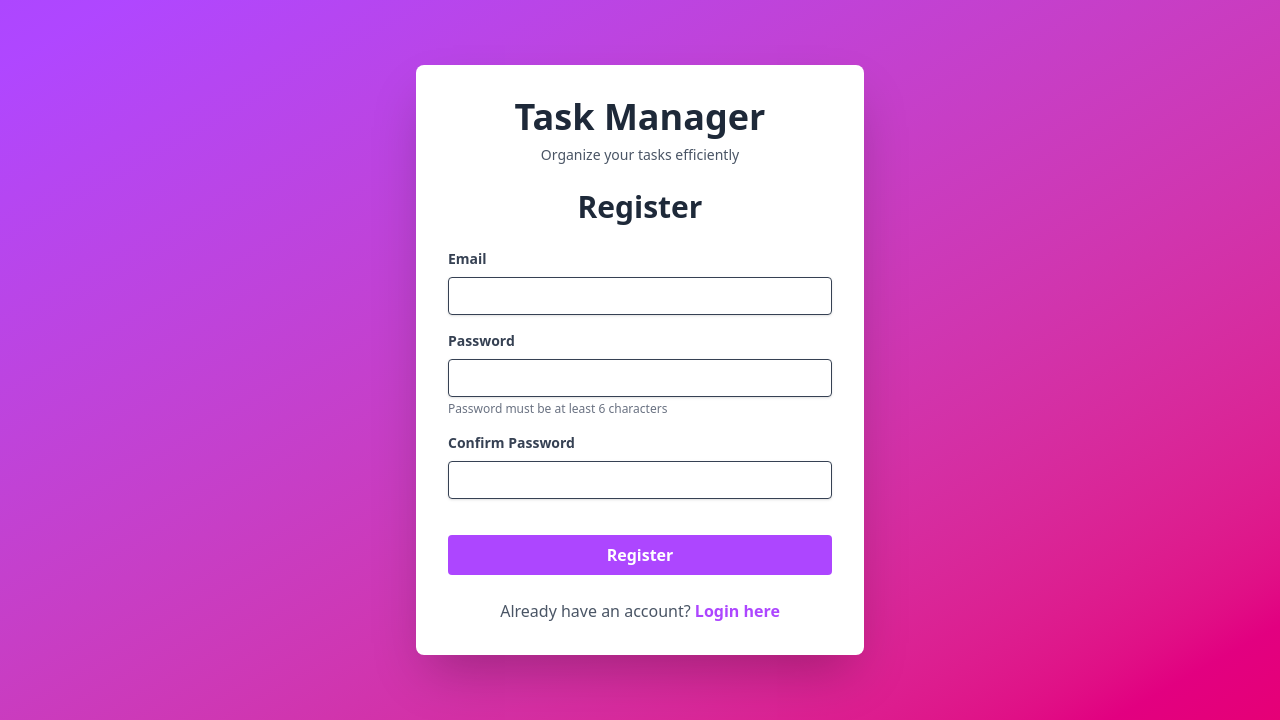
Test case: Authentication Flow › User Registration › should show error for password mismatch
Type "test@example.com" into the field labelled "Email" at (640, 296), box [448,277,832,315]
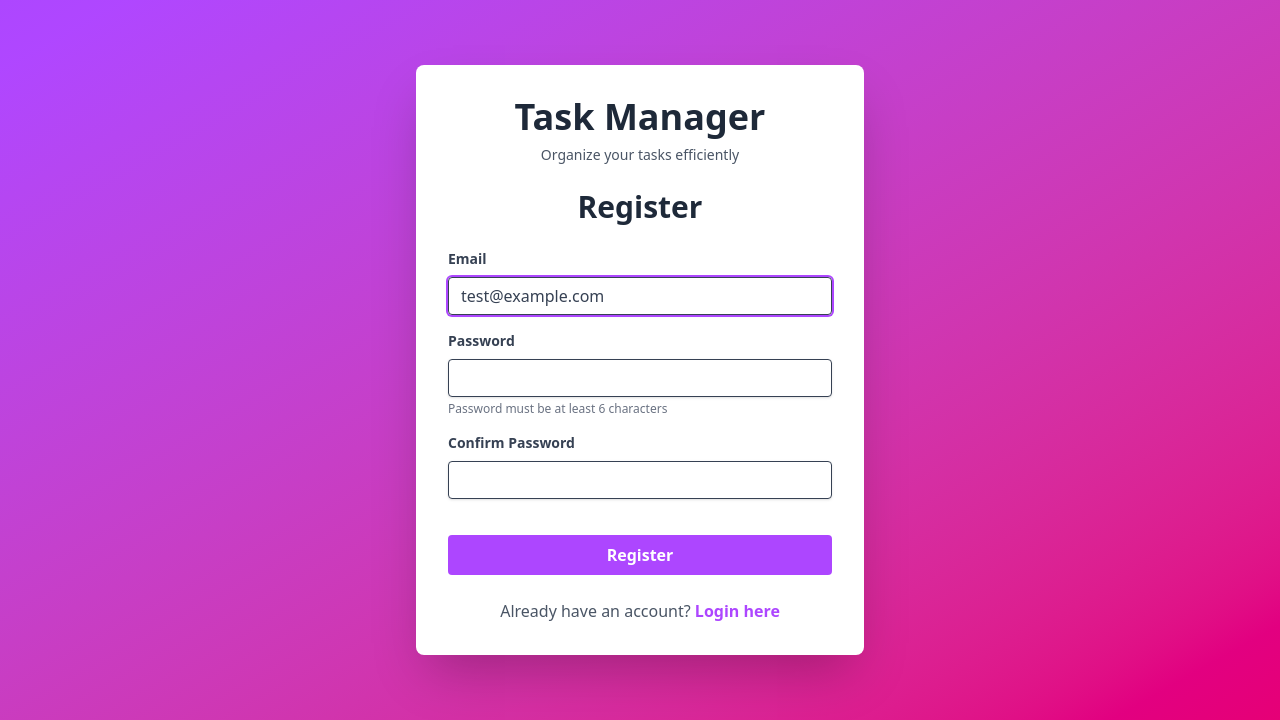
Type "password123" into the password field labelled "Password" at (640, 378), box [448,359,832,397]
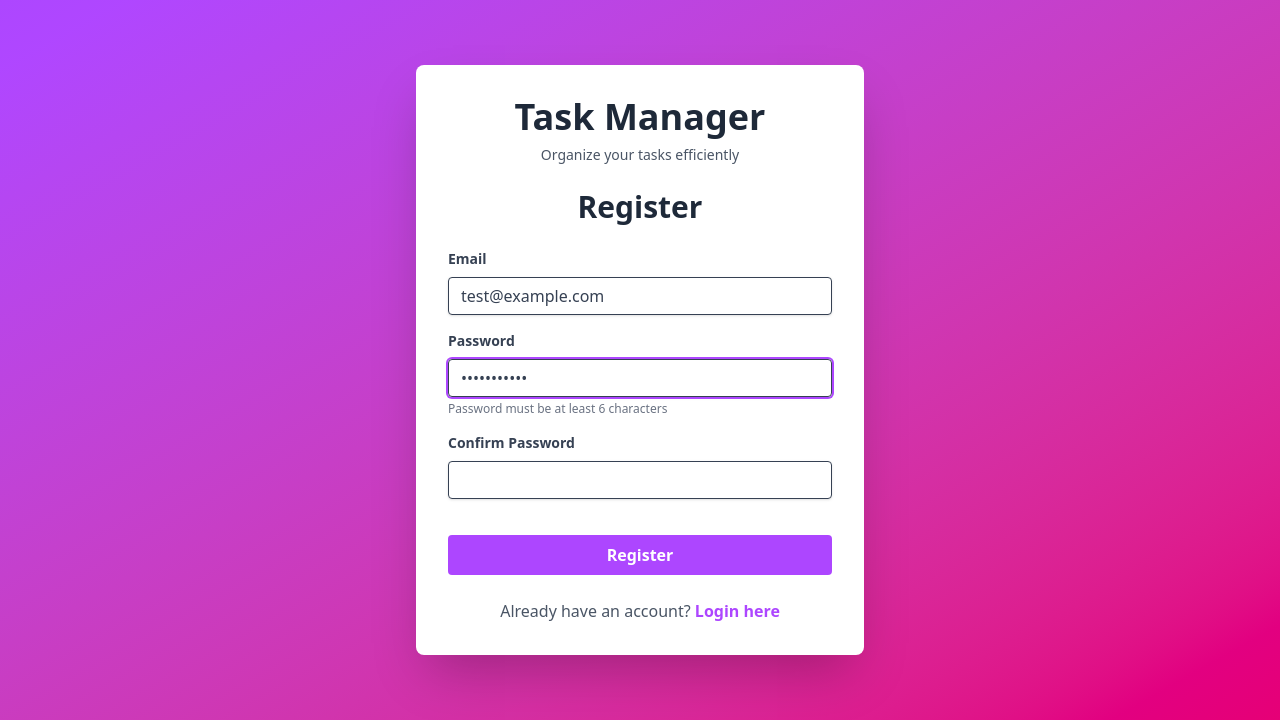
Type "different123" into the password field labelled "Confirm Password" at (640, 480), box [448,461,832,499]
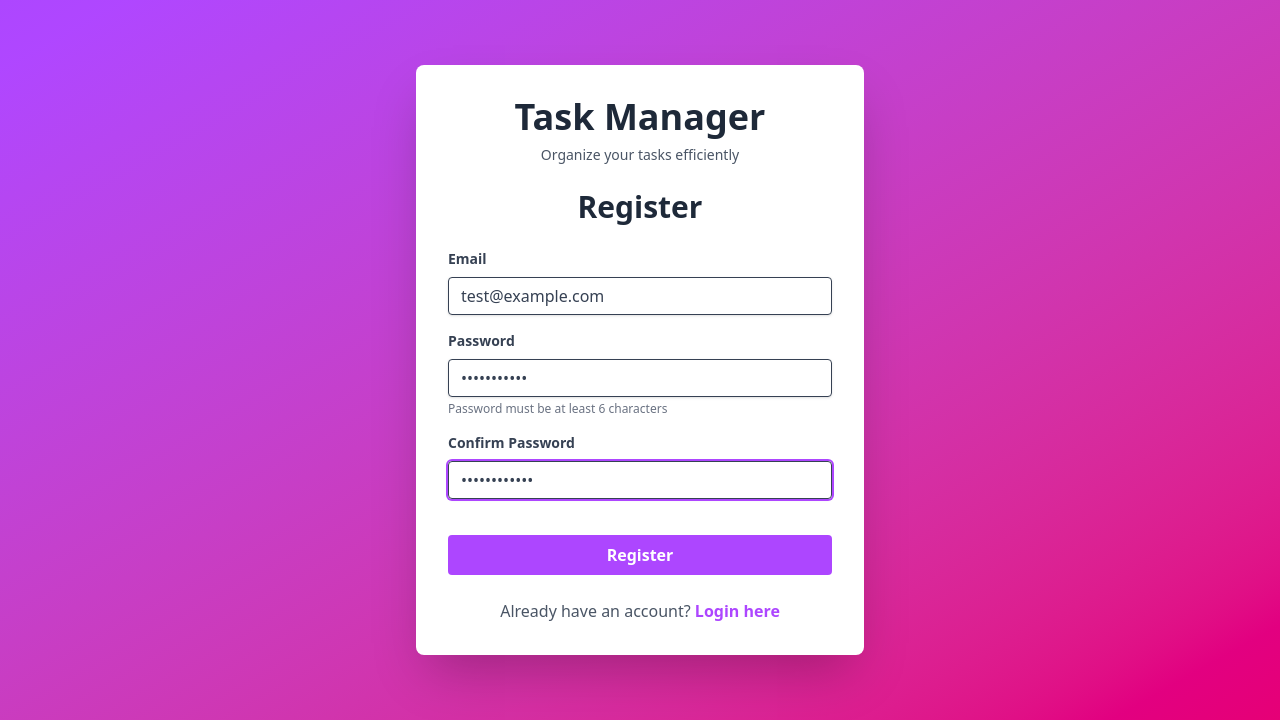
Click the submit button at (640, 555), box [448,535,832,575]
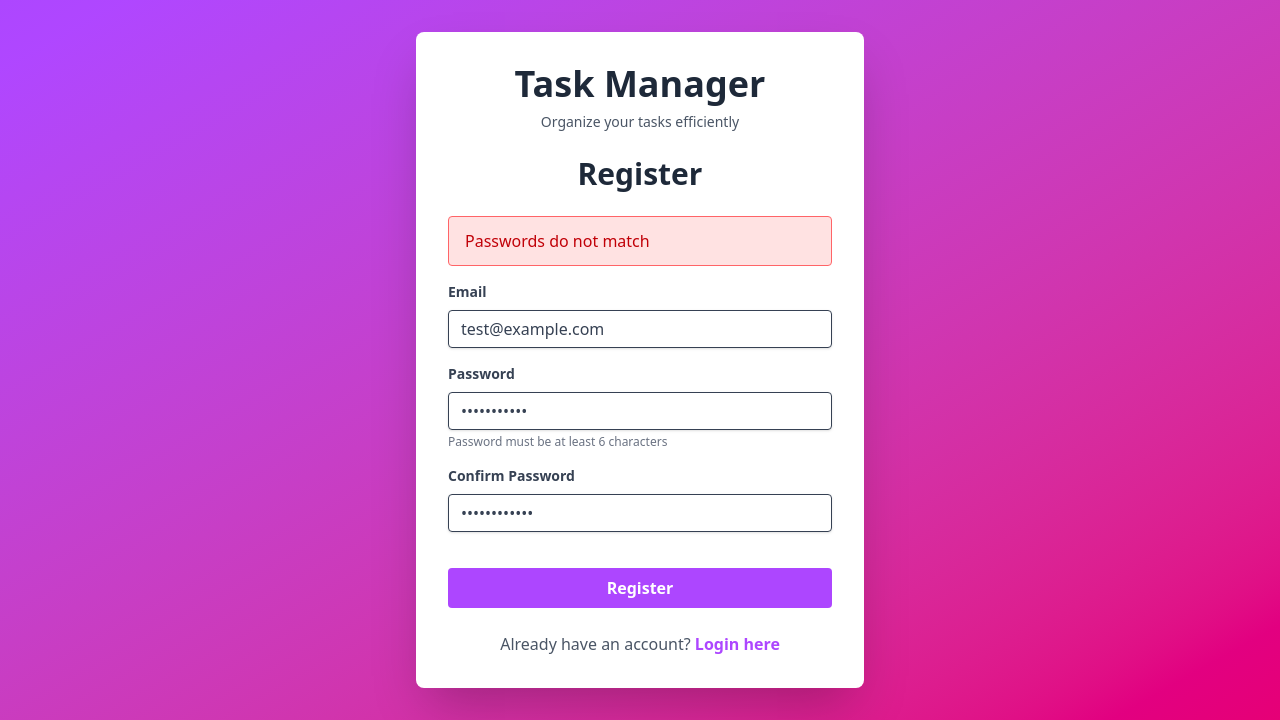
expect the text "Passwords do not match" is shown: met, box [448,216,832,266]
